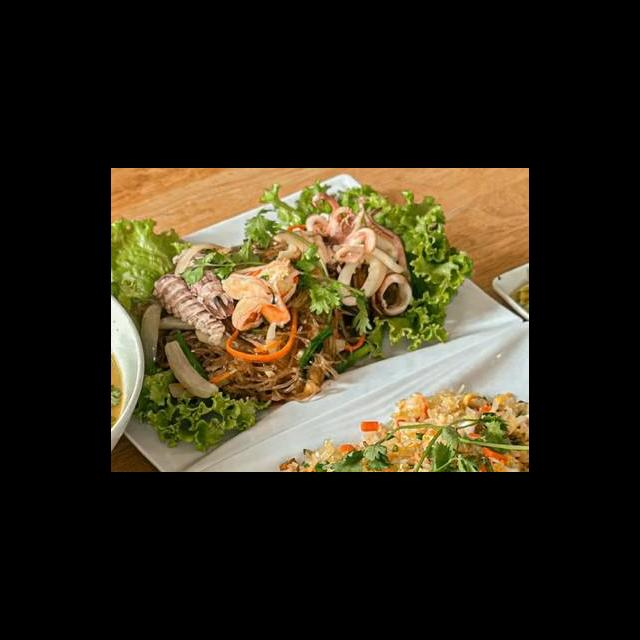muc: (298, 189, 380, 261), (332, 243, 390, 310)
tom tit: (149, 269, 230, 350), (168, 246, 241, 325)
